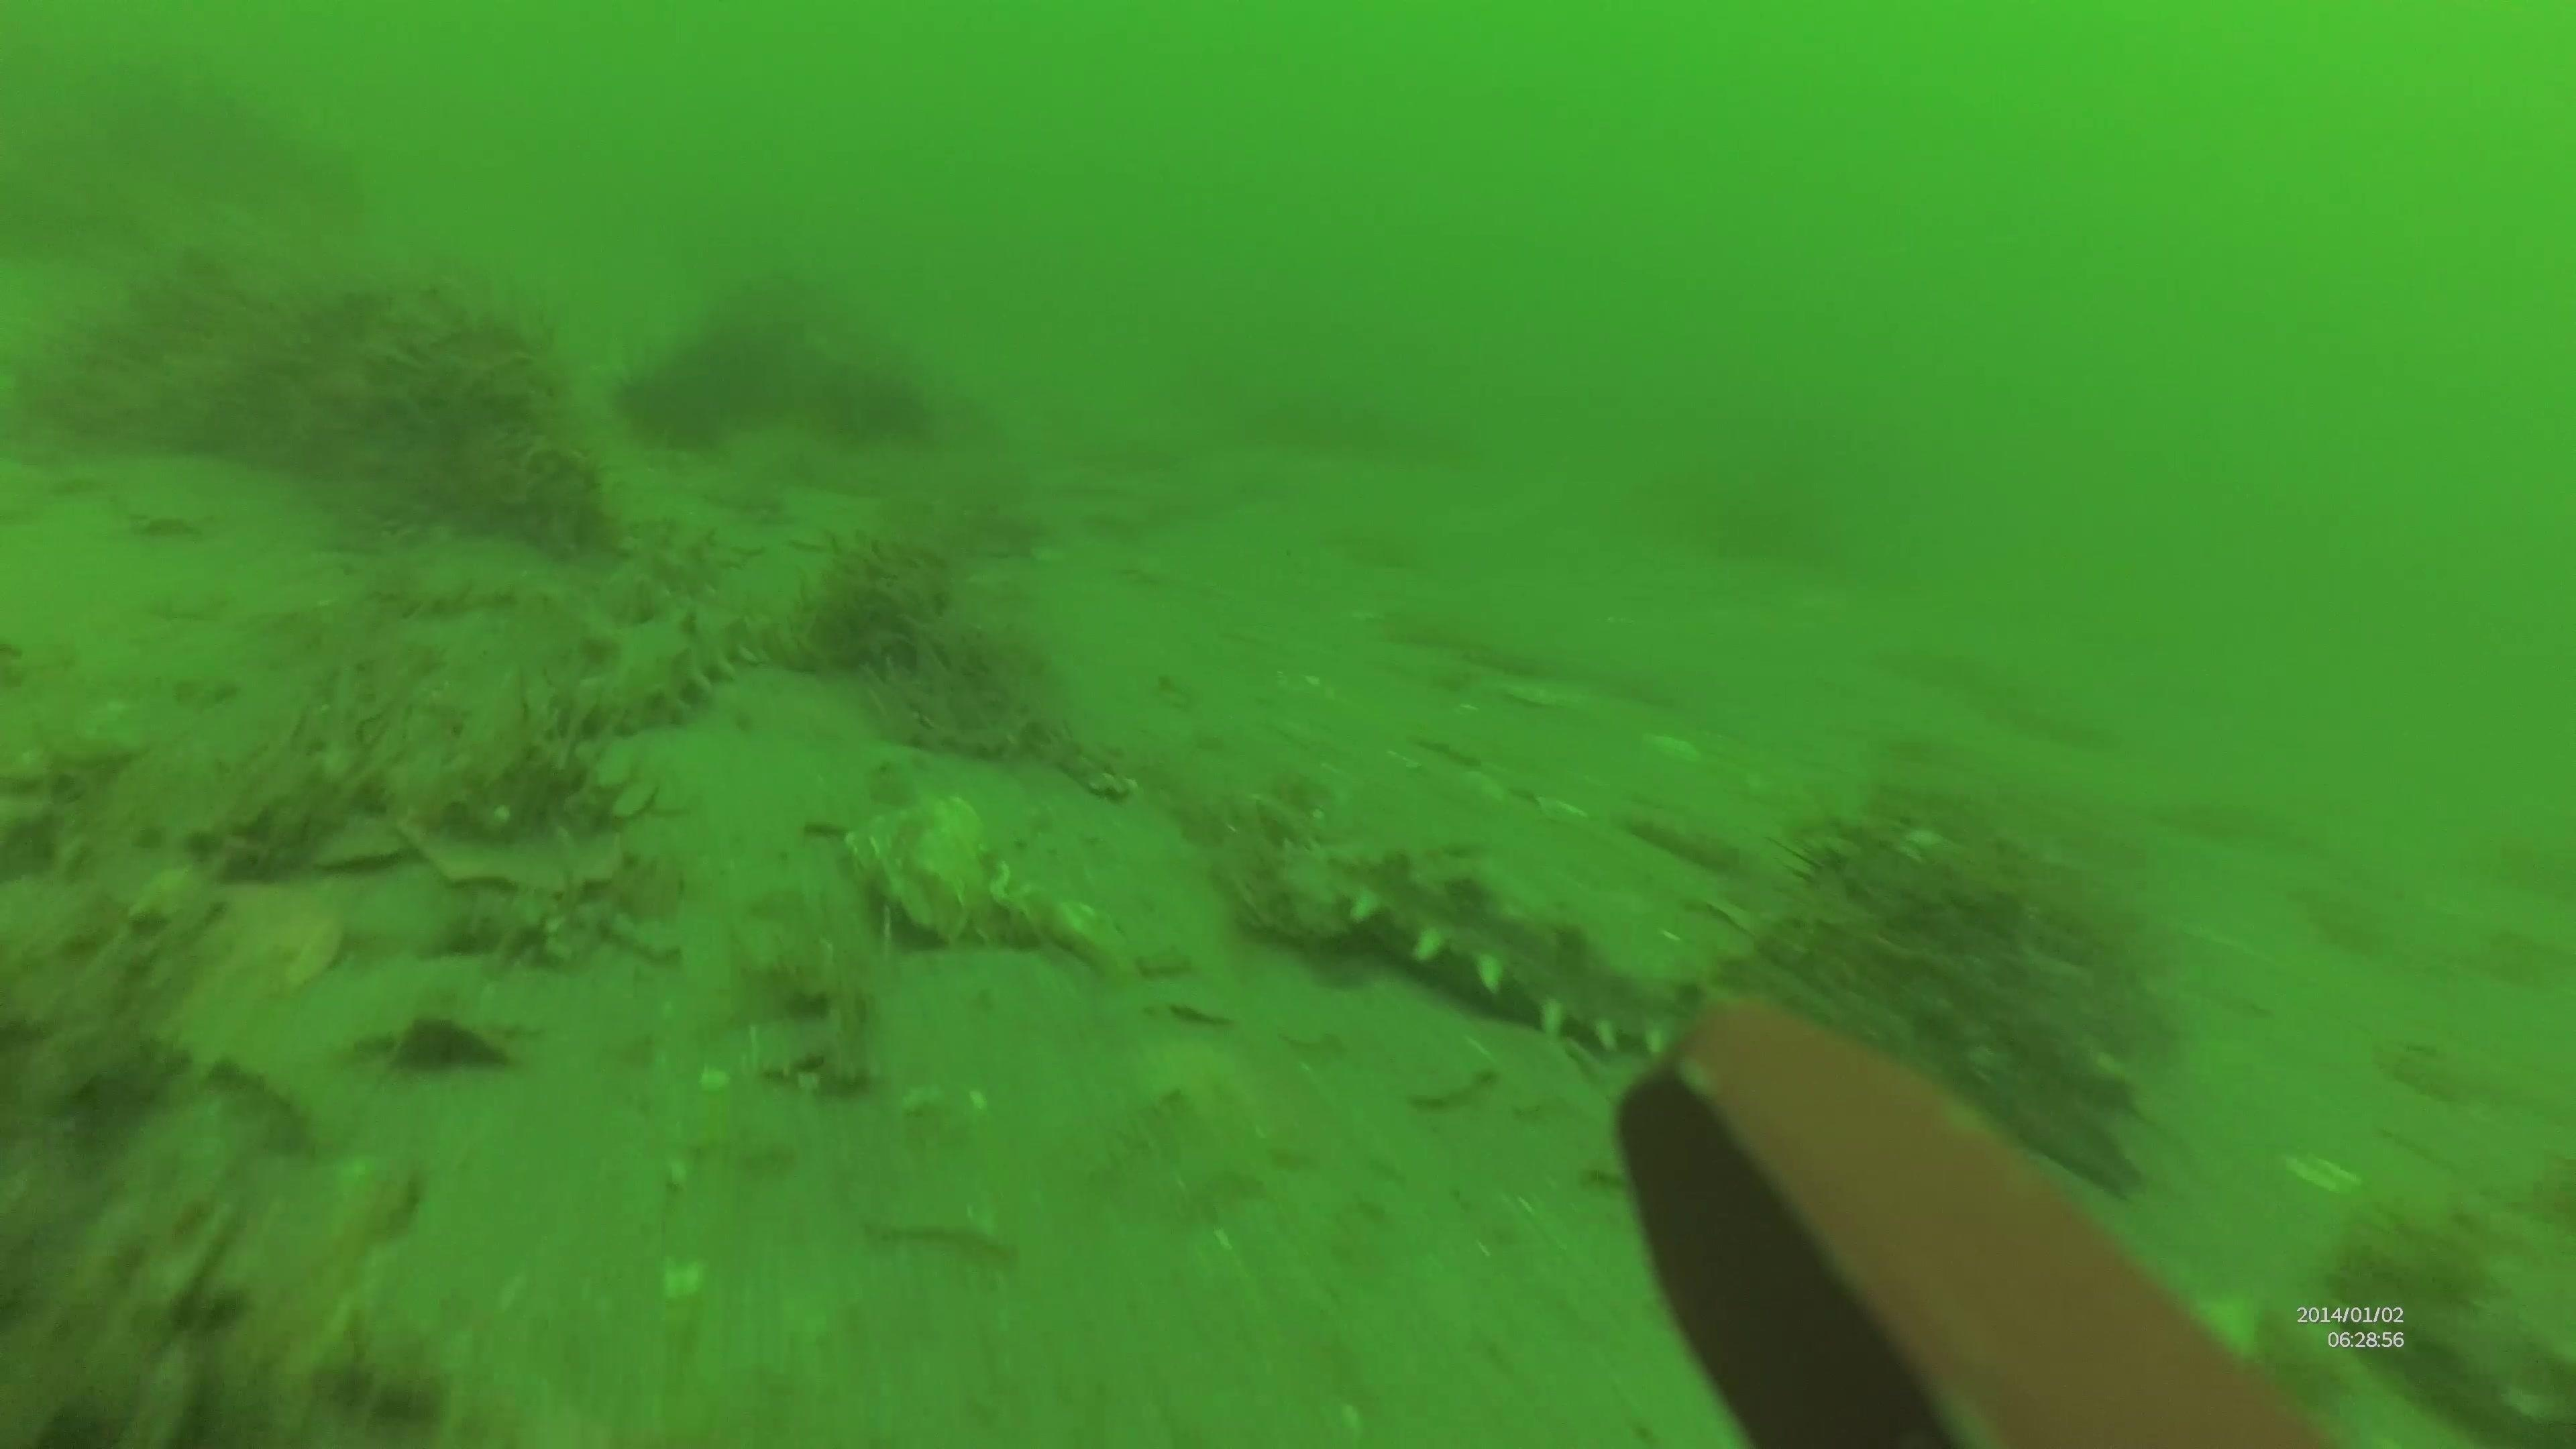holothurian: (1256, 826, 1702, 1065), (554, 593, 777, 747)
